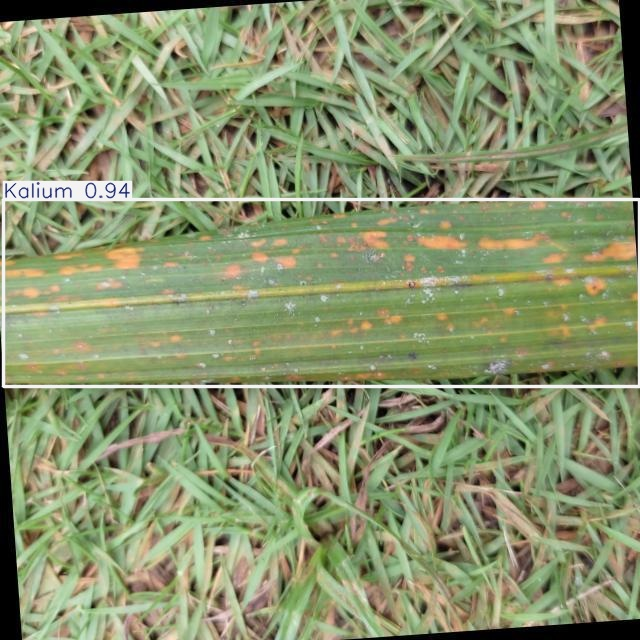Kalium: (3, 199, 639, 387)
